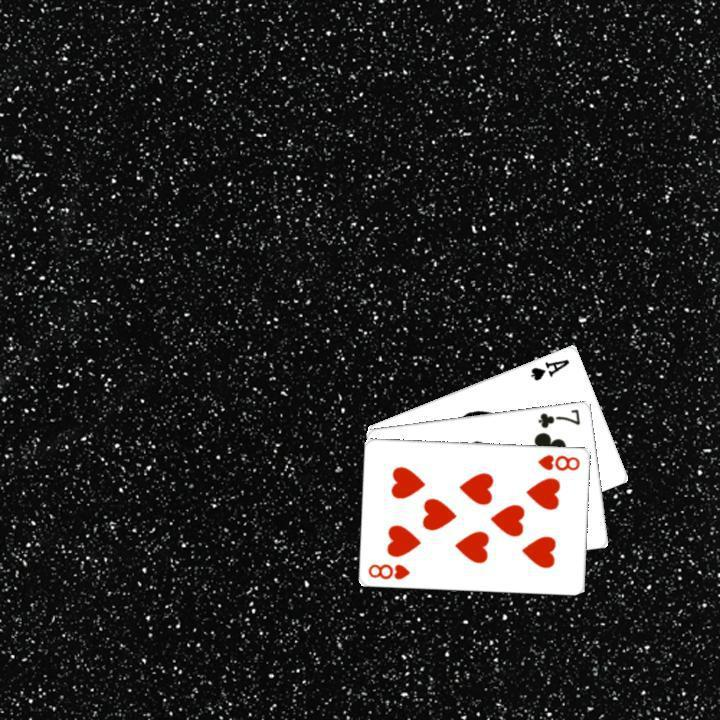7: (534, 404, 582, 430)
8: (534, 450, 582, 472), (364, 559, 412, 581)
A: (527, 354, 572, 382)
